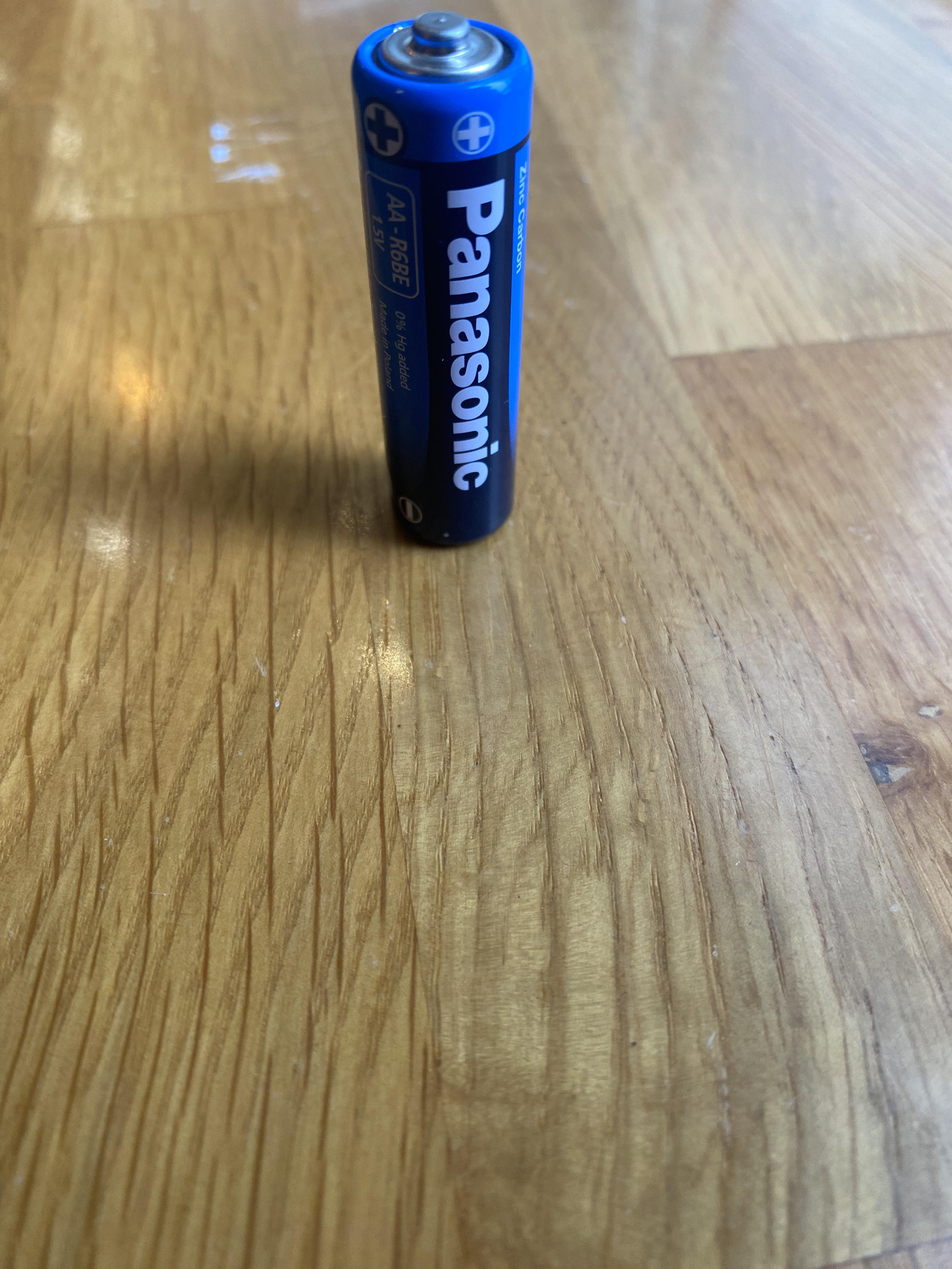AA: (349, 10, 535, 548)
